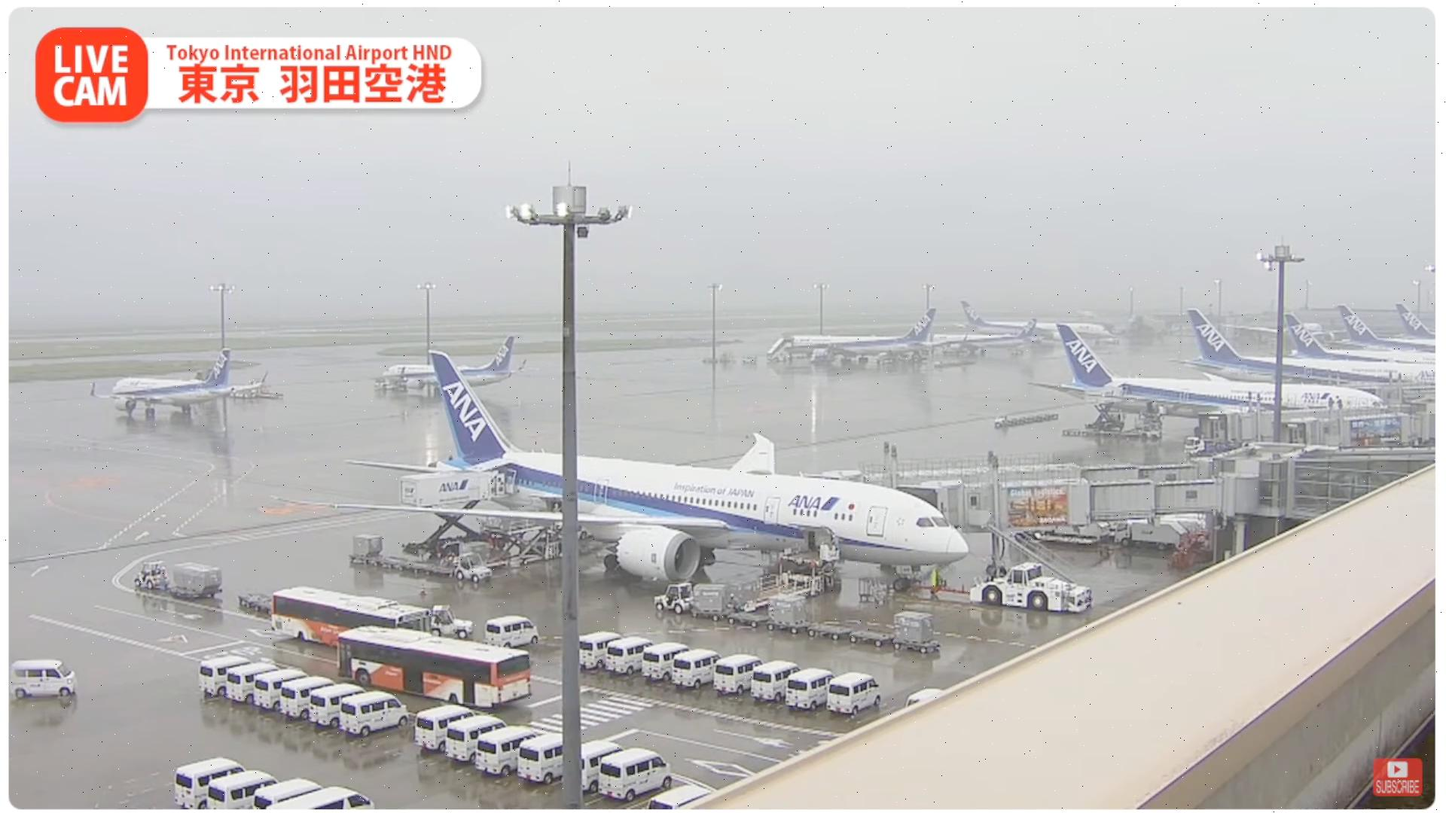APS: (968, 562, 1094, 614)
Aerobridge: (892, 474, 1261, 535), (796, 455, 1210, 487)
Airplane: (270, 351, 970, 592)
Catering: (400, 469, 512, 555)
Dolly: (692, 605, 940, 654), (348, 552, 451, 576), (238, 593, 273, 620), (172, 584, 221, 598)
JCPL: (701, 556, 833, 611), (475, 521, 563, 568)
Tractor: (653, 582, 699, 614), (431, 604, 474, 638), (452, 552, 488, 582), (133, 560, 169, 588)
Window: (1292, 458, 1433, 516)
